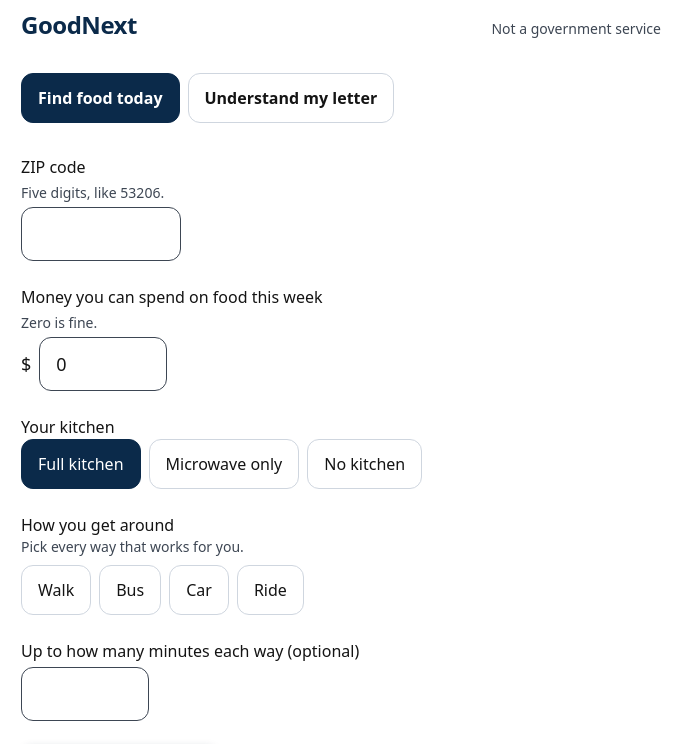
Understand my letter › the three questions post without a file
Step 1. Click the tab "Understand my letter" → (291, 98), box [188,73,394,123]
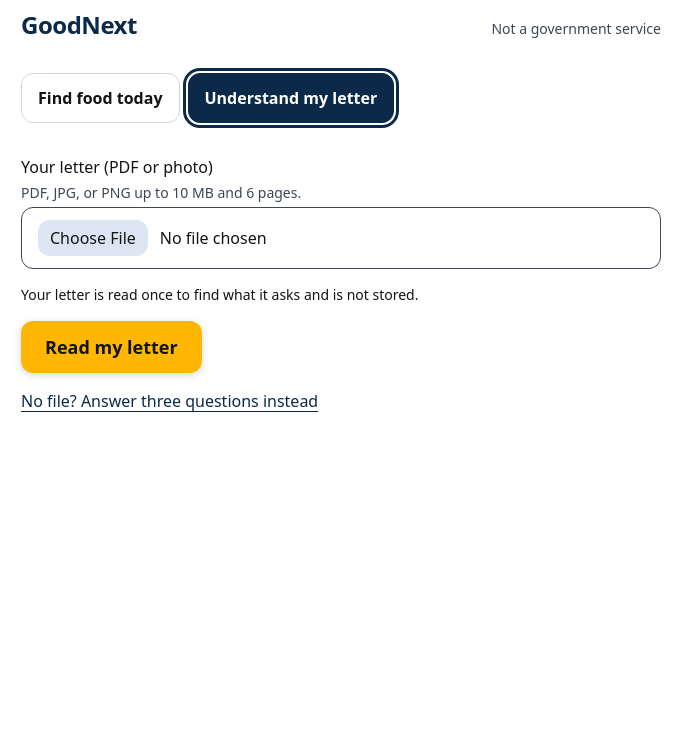
Step 2. Click the button "No file? Answer three questions instead" → (170, 401), box [21,389,318,413]
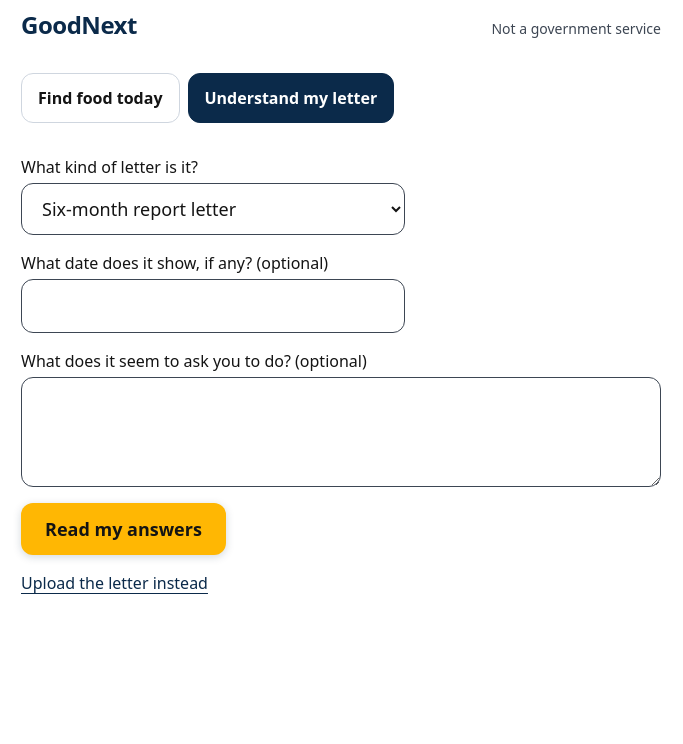
Step 3. Select "Six-month report letter" in the dropdown labelled "What kind of letter is it?" → (213, 209), box [21,183,405,235]
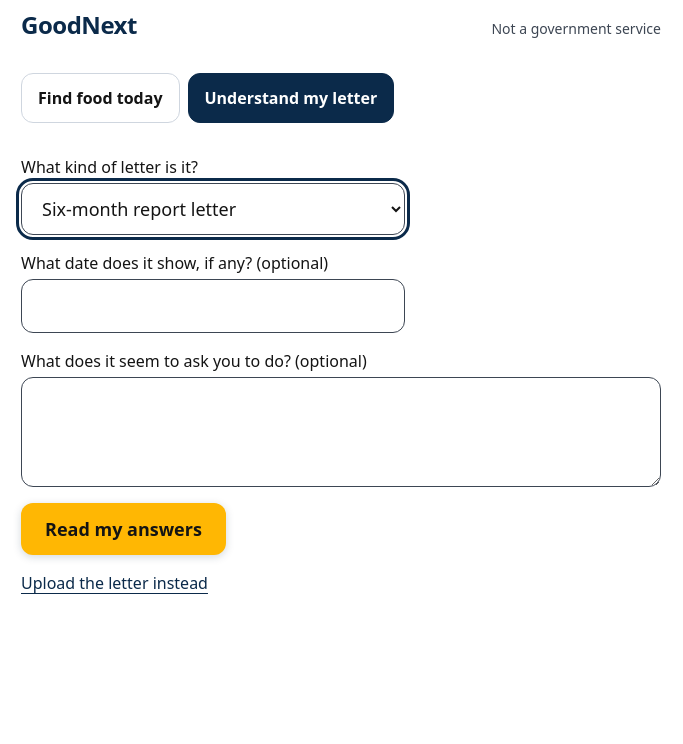
Step 4. Type "March 2027" into the field labelled "What date does it show, if any? (optional)" → (213, 306), box [21,279,405,333]
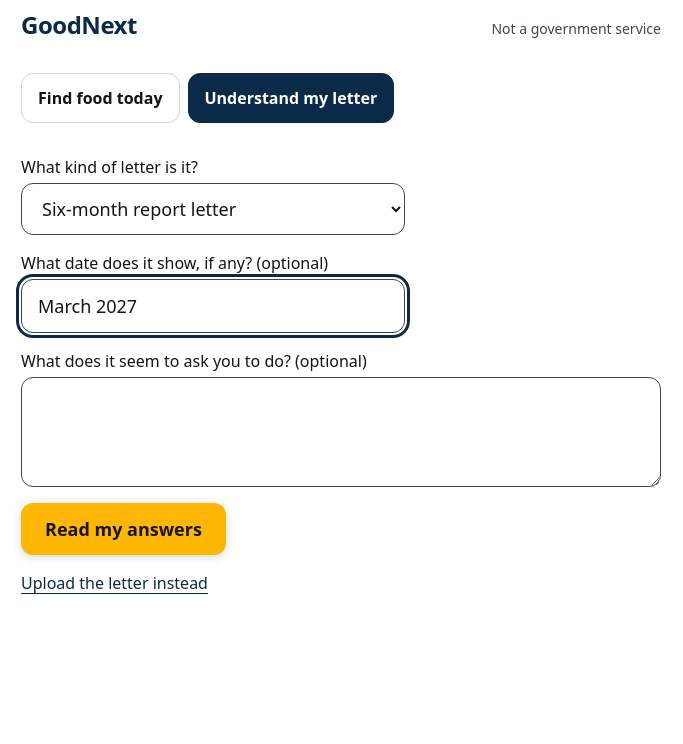
Step 5. Type "Fill out a form" into the text box labelled "What does it seem to ask you to do? (optional)" → (341, 432), box [21,377,661,487]
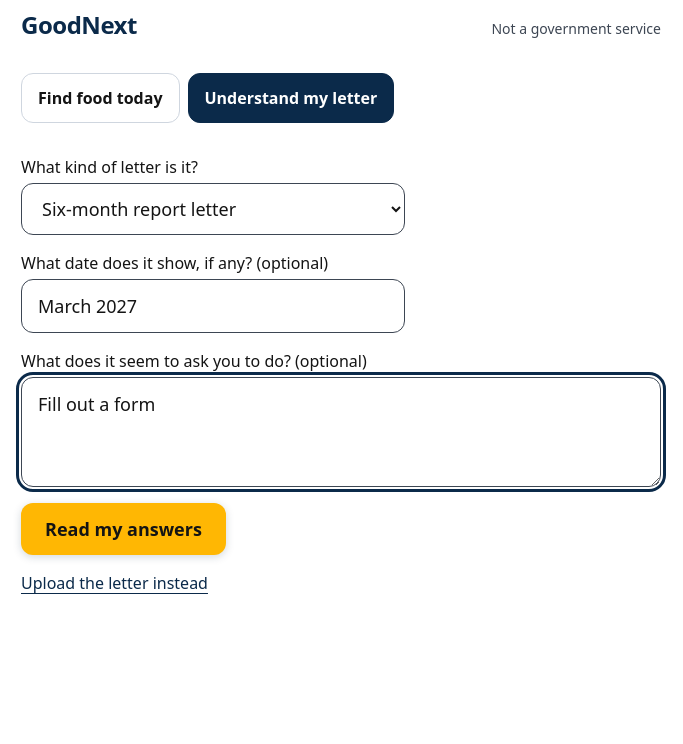
Step 6. Click the button "Read my answers" → (123, 529), box [21,503,226,555]
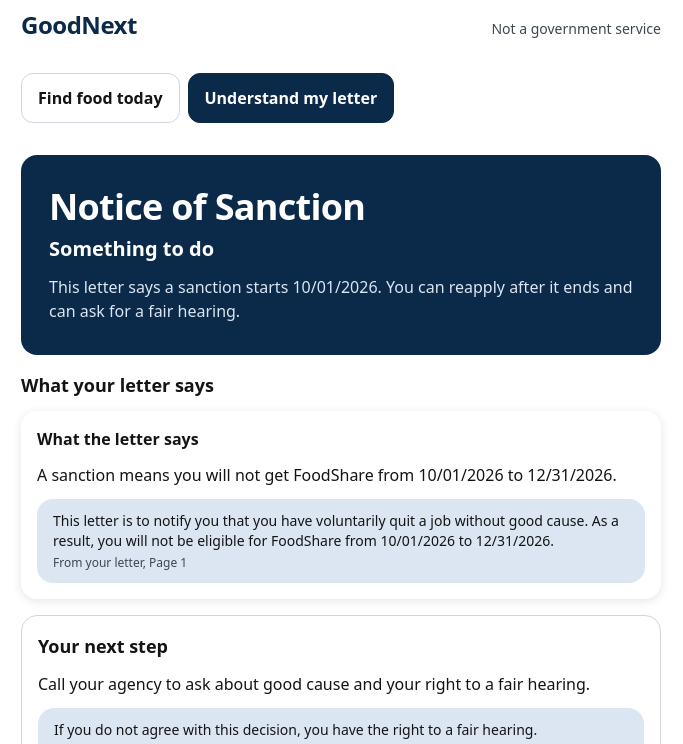
Now the heading "Notice of Sanction" is shown, box [49,182,365,231]
